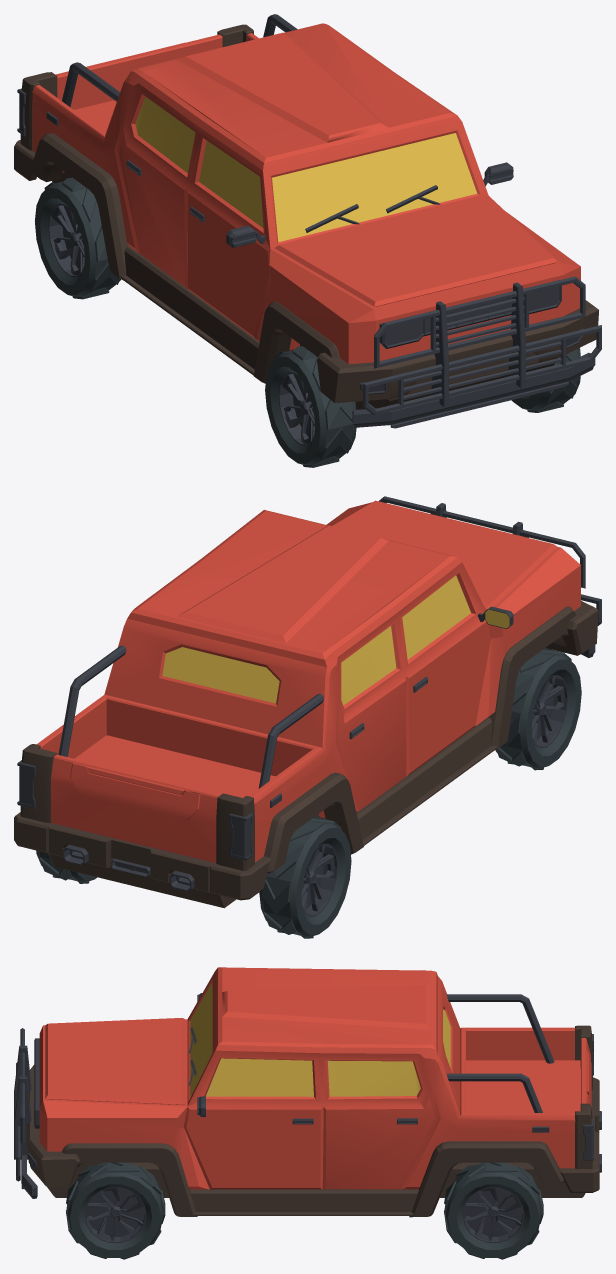
File: car_03.gltf
The picture shows the model from 3 angles, top to bottom: view 1: azimuth 30°, elevation 25°; view 2: azimuth 150°, elevation 25°; view 3: azimuth 270°, elevation 25°; orthographic projection. The views are drawn at different scales.
Parts seen in each view (by area): view 1: body, wheel_28, wheel_22, wheel_27, wheel_21, wheel_20, wheel_26; view 2: body, wheel_22, wheel_28, wheel_21, wheel_27, wheel_26, wheel_20; view 3: body, wheel_38, wheel_32, wheel_10, wheel_15, wheel_40, wheel_34, wheel_39, wheel_33.
Boxes of the visible parts, left/top/right/bottom form: body: left=14, top=14, right=601, bottom=467; wheel_28: left=265, top=356, right=320, bottom=463; wheel_22: left=35, top=188, right=90, bottom=295; wheel_27: left=270, top=367, right=313, bottom=453; wheel_21: left=40, top=198, right=83, bottom=284; wheel_20: left=42, top=184, right=96, bottom=296; wheel_26: left=272, top=352, right=326, bottom=465; body: left=14, top=496, right=601, bottom=938; wheel_22: left=296, top=827, right=351, bottom=934; wheel_28: left=526, top=659, right=581, bottom=766; wheel_21: left=302, top=838, right=346, bottom=924; wheel_27: left=532, top=669, right=576, bottom=756; wheel_26: left=520, top=655, right=573, bottom=767; wheel_20: left=289, top=823, right=343, bottom=936; body: left=14, top=967, right=601, bottom=1259; wheel_38: left=70, top=1176, right=160, bottom=1257; wheel_32: left=448, top=1176, right=538, bottom=1257; wheel_10: left=466, top=1188, right=522, bottom=1236; wheel_15: left=88, top=1188, right=144, bottom=1236; wheel_40: left=78, top=1184, right=152, bottom=1249; wheel_34: left=456, top=1184, right=530, bottom=1249; wheel_39: left=67, top=1172, right=163, bottom=1257; wheel_33: left=445, top=1172, right=541, bottom=1257.
Size of the model in its own units: 2.38 by 2.03 by 5.21.
1 material, 1 textured.
